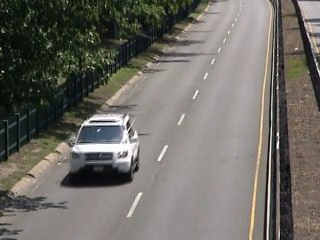car: (64, 107, 143, 181)
